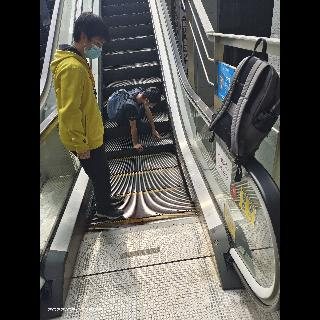anomaly: (104, 80, 176, 160)
normal: (46, 10, 136, 228)
